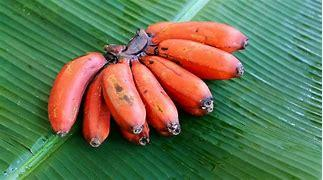banana: (40, 17, 254, 152), (93, 41, 243, 145)
